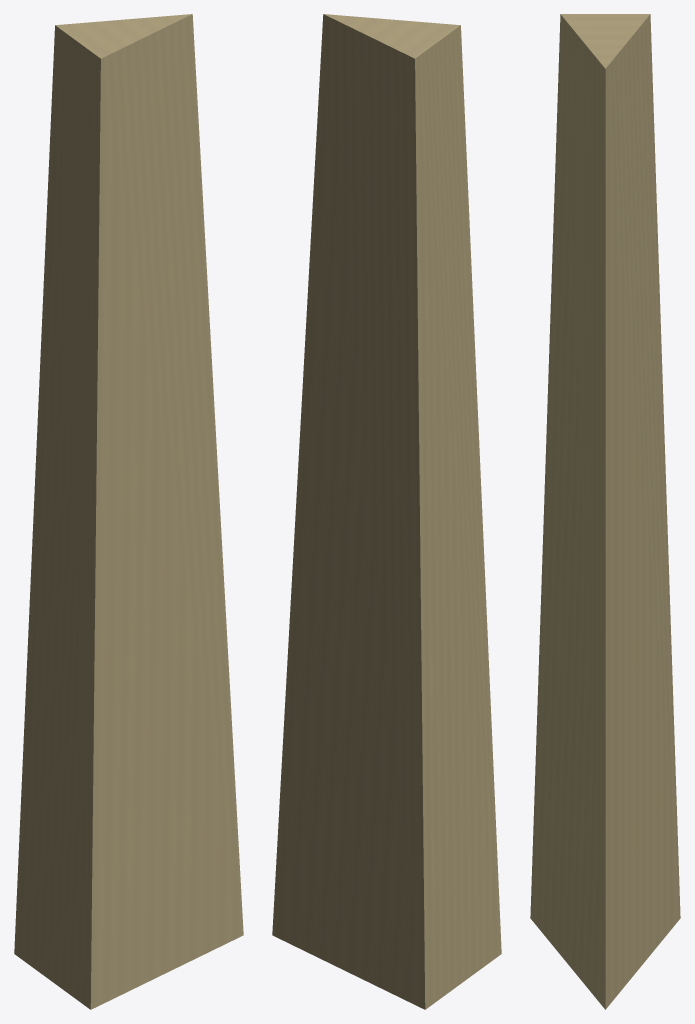
File: atlas100-s015-a05.lod2.glb
3 views of the same model, side by side, from view 1: azimuth 30°, elevation 25°; view 2: azimuth 150°, elevation 25°; view 3: azimuth 270°, elevation 25° (orthographic).
Visible parts, largest first — view 1: atlas100-s015-a05:part-000; view 2: atlas100-s015-a05:part-000; view 3: atlas100-s015-a05:part-000.
Part boxes in pixels (x1,y1,x2,y2): atlas100-s015-a05:part-000: (14, 14, 243, 1009); atlas100-s015-a05:part-000: (272, 14, 501, 1009); atlas100-s015-a05:part-000: (530, 14, 680, 1009).
Bounding box in the file's own units: 0.1638 × 0.7644 × 0.1135.
Materials: 1 (1 with a texture image).
